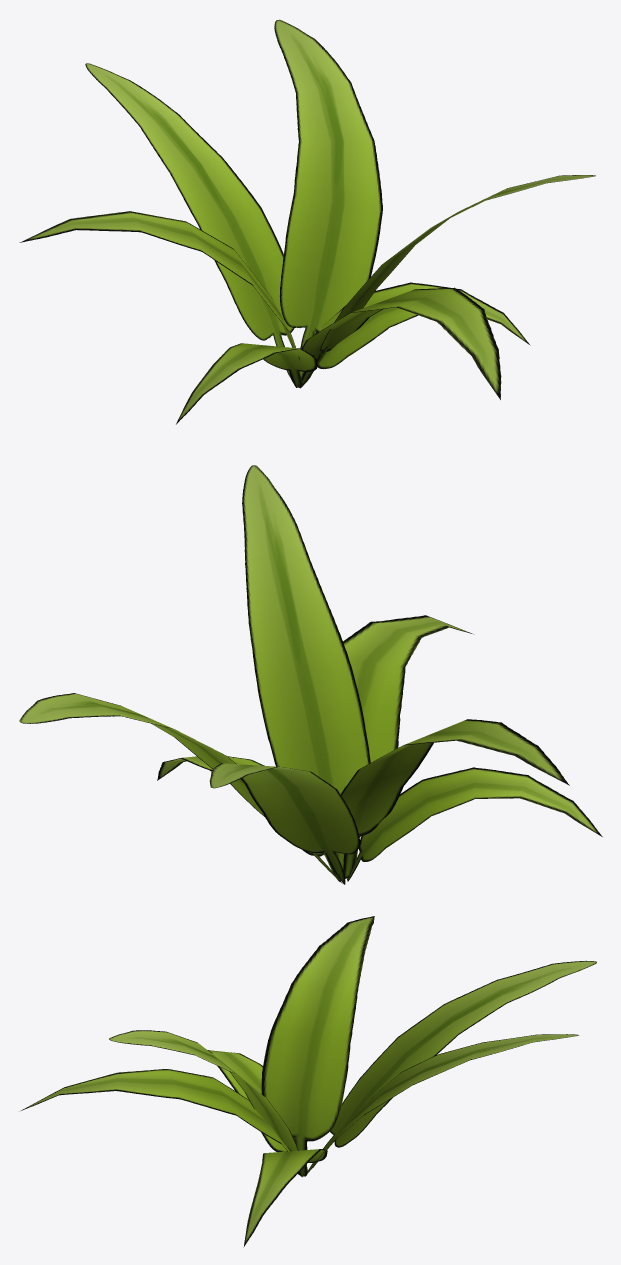
File: Moonset_FBX_foliage_little_01.fbx
3 renders of one model, top to bottom at view 1: azimuth 30°, elevation 25°; view 2: azimuth 150°, elevation 25°; view 3: azimuth 270°, elevation 25°, orthographic. The views are drawn at different scales.
Parts seen in each view (by area): view 1: Foliage_little_02; view 2: Foliage_little_02; view 3: Foliage_little_02.
Boxes of the visible parts, left/top/right/bottom form: Foliage_little_02: left=19, top=19, right=595, bottom=424; Foliage_little_02: left=19, top=465, right=602, bottom=884; Foliage_little_02: left=21, top=916, right=596, bottom=1247.
Bounding box in the file's own units: 0.826 × 0.4432 × 1.06.
